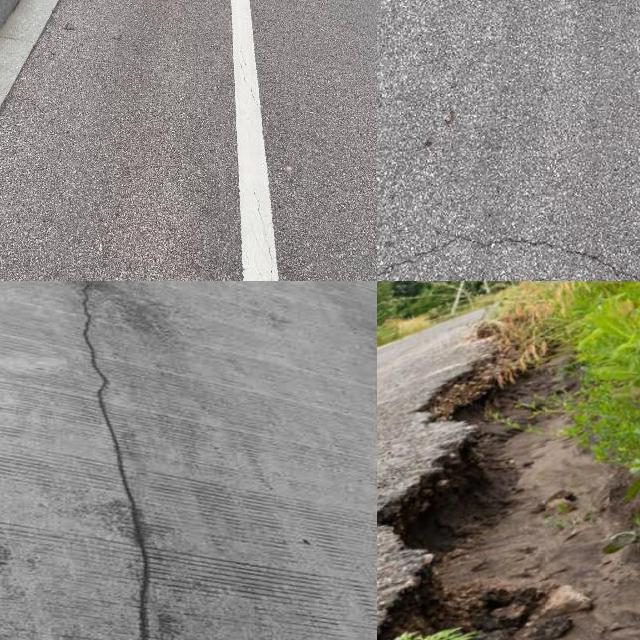Melintang: (377, 223, 640, 281)
Memanjang: (69, 281, 176, 640)
Pinggir: (377, 330, 534, 640)
